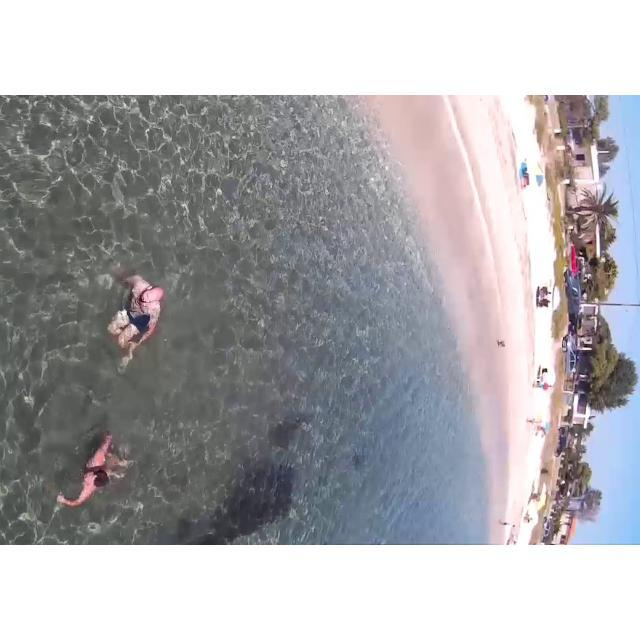human: (92, 253, 180, 388), (61, 417, 129, 525)
